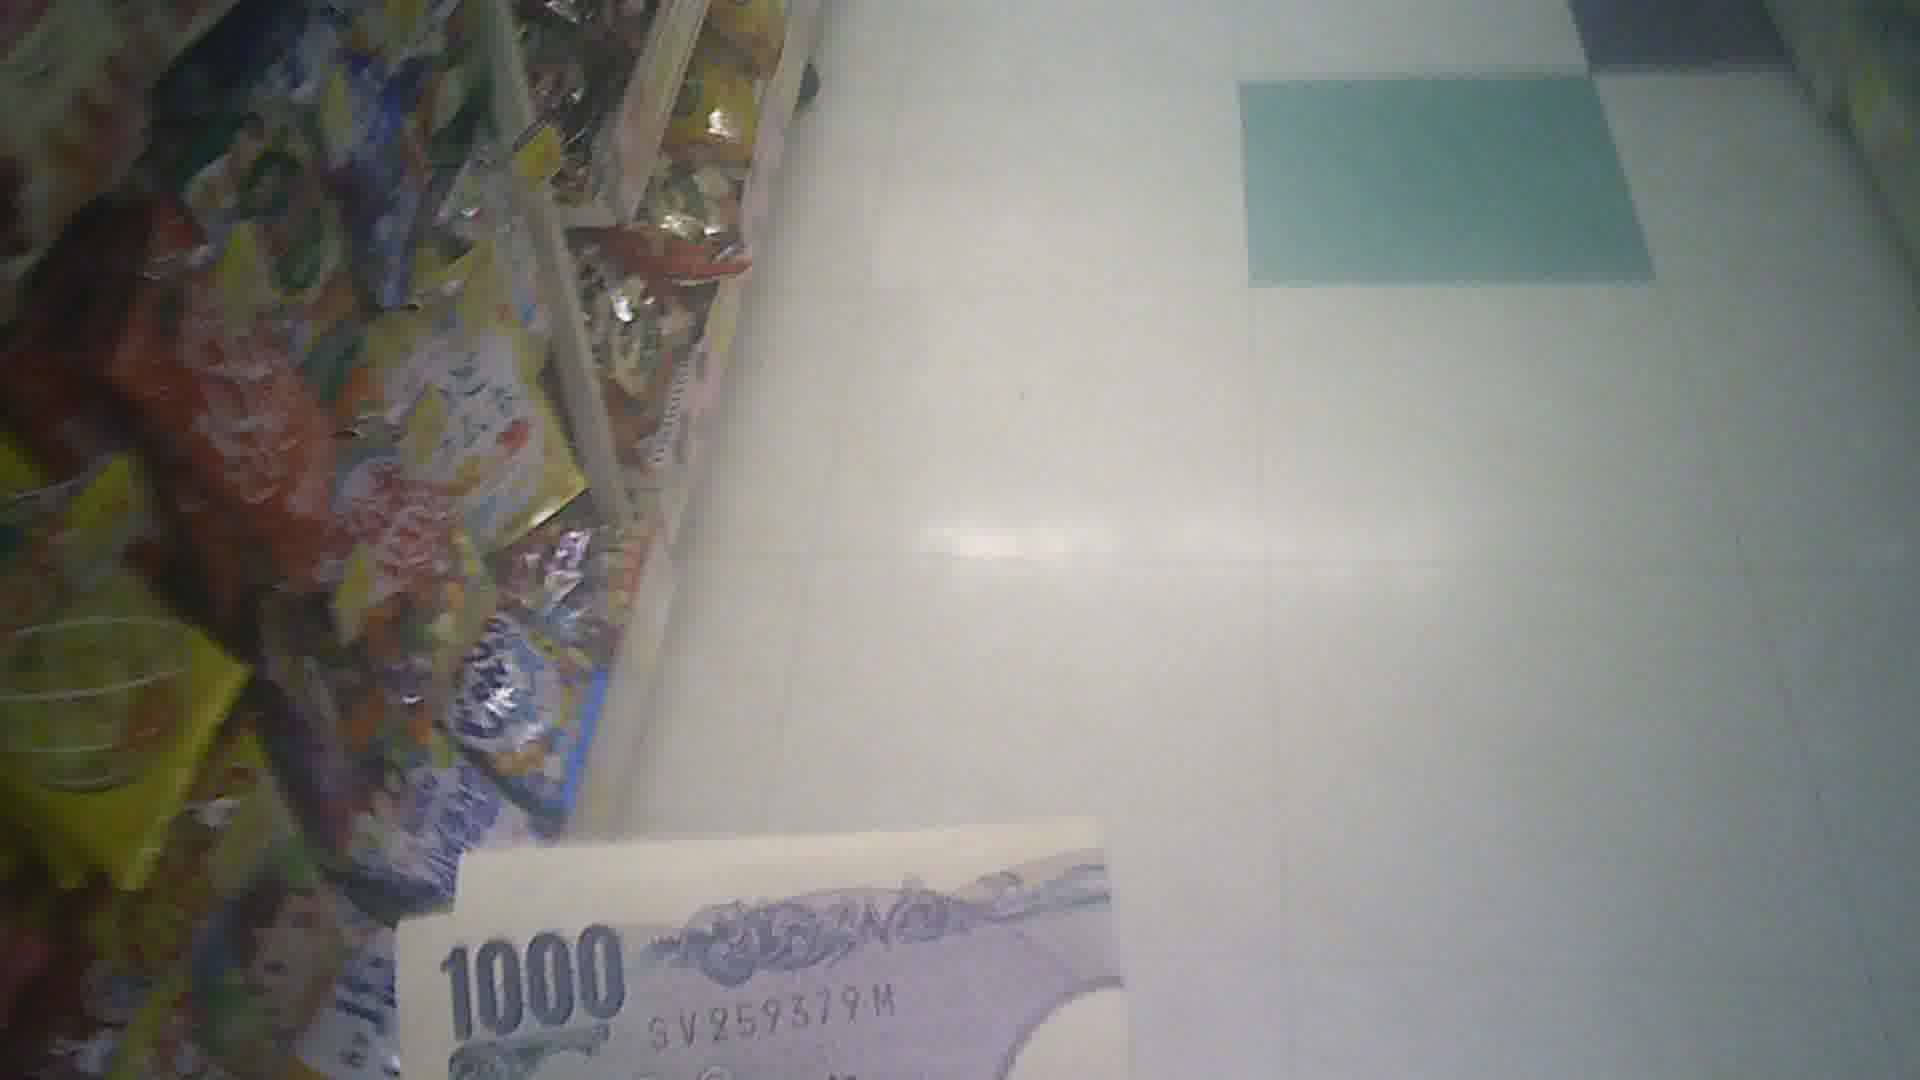1,000 Yen: (386, 814, 1163, 1079)
